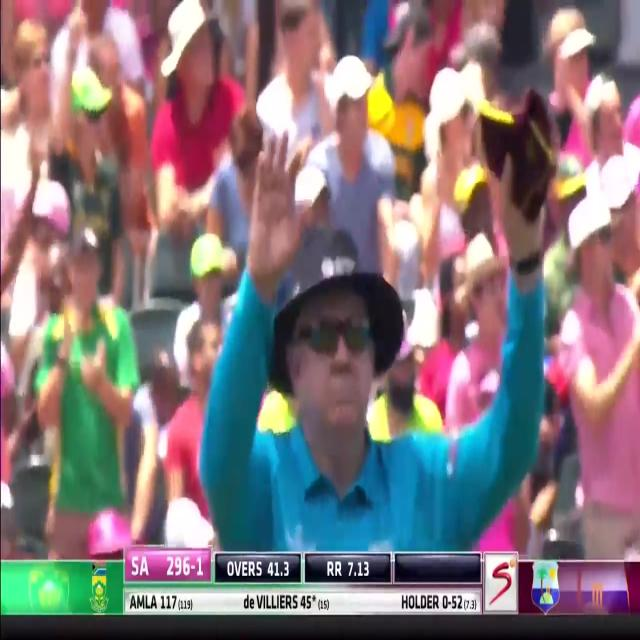Umpire: (200, 3, 570, 562)
